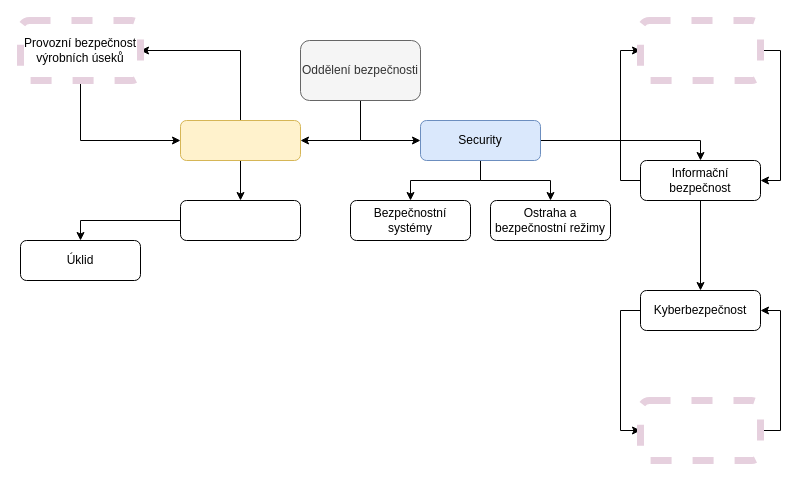
Image size: 806x481. Some labels were removed from this diagram. Each missing label, with the centre of its shape:
BOZP a PO: [240,220]
Compliance a interní audit: [700,50]
IT: [700,430]
Safety: [240,140]
